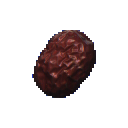gd: (22, 22, 104, 107)
